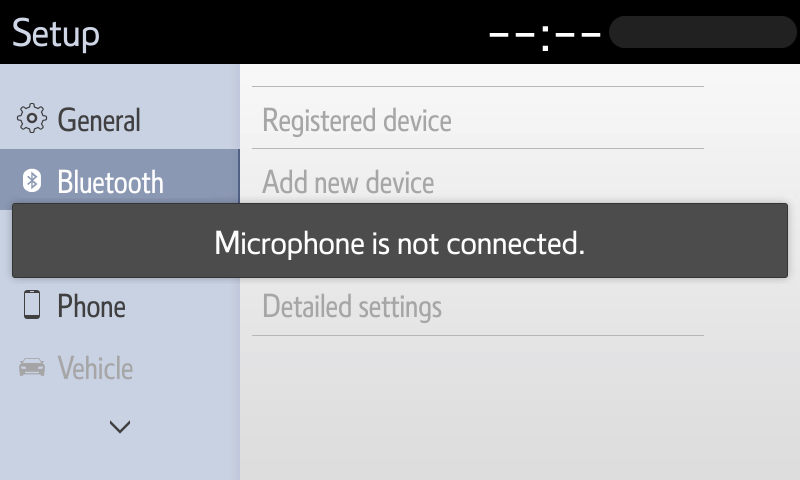touchPart: (13, 97, 154, 134), (12, 285, 140, 321), (101, 417, 137, 435)
untouchPart: (251, 269, 709, 343), (246, 82, 709, 154), (249, 143, 713, 211), (477, 5, 799, 57), (1, 143, 242, 211), (6, 9, 114, 55), (17, 349, 148, 381)
